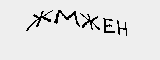Е: (100, 15, 117, 36)
Ж: (24, 8, 51, 34), (79, 12, 101, 34)
М: (54, 7, 78, 27)
Н: (114, 19, 131, 39)
